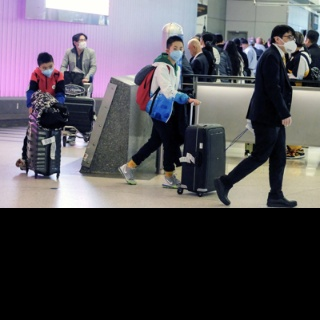with_mask: (280, 34, 297, 53), (170, 45, 184, 61), (39, 64, 53, 77), (76, 37, 88, 49)
